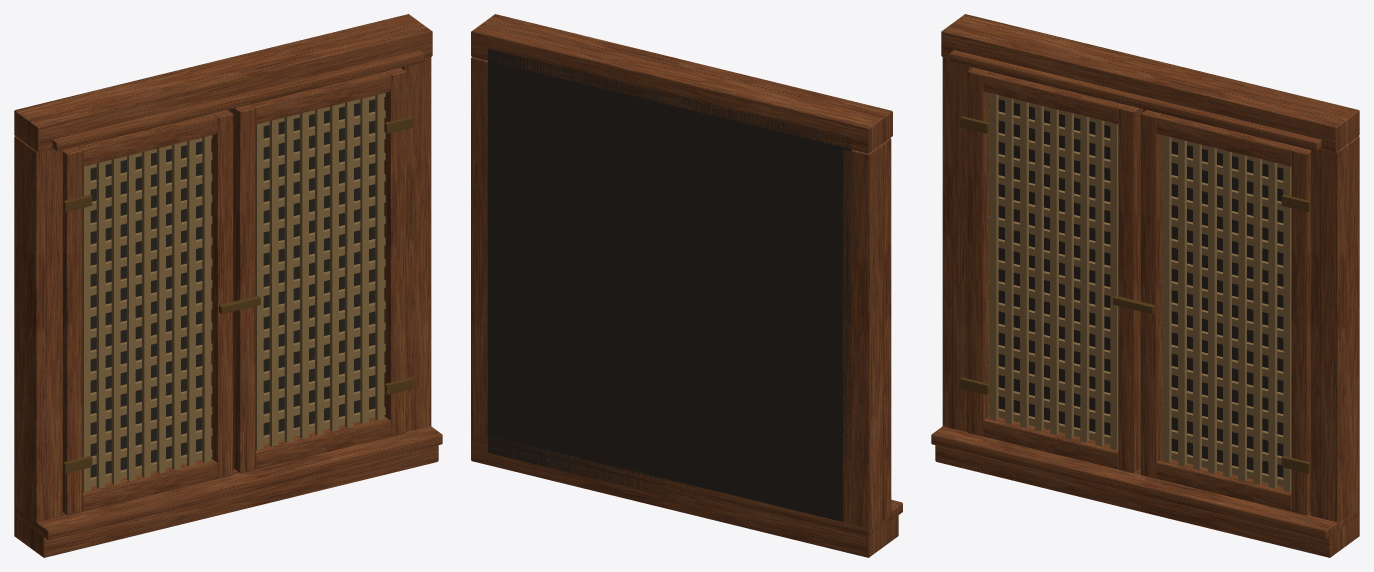
File: shutter-woven.glb
3 renders of one model, left to right at view 1: azimuth 30°, elevation 25°; view 2: azimuth 150°, elevation 25°; view 3: azimuth 330°, elevation 25°, orthographic.
Visible parts, largest first — view 1: shutter-woven; view 2: shutter-woven; view 3: shutter-woven.
Boxes of the visible parts, x1,y1,x2,y2 form: shutter-woven: (14,14,442,557); shutter-woven: (471,14,902,557); shutter-woven: (931,14,1359,557).
Bounding box in the file's own units: 1.6 × 1.65 × 0.24.
Materials: 2 (1 with a texture image).
